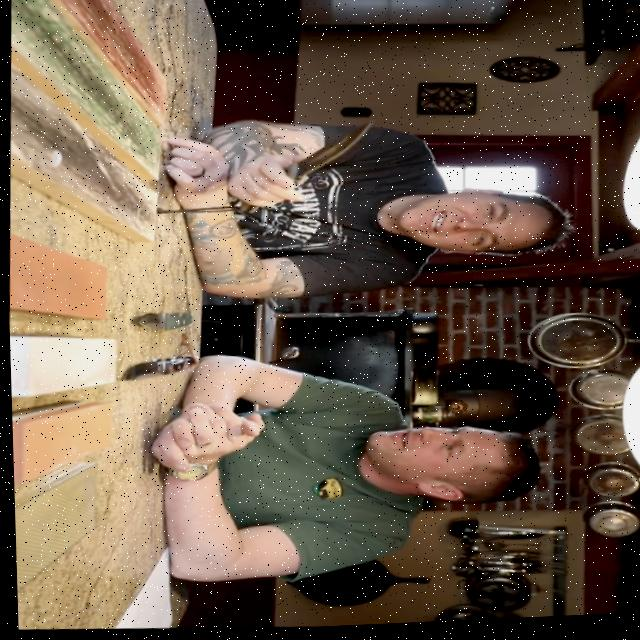knife: (284, 118, 373, 182), (113, 351, 213, 384), (125, 309, 205, 334)
